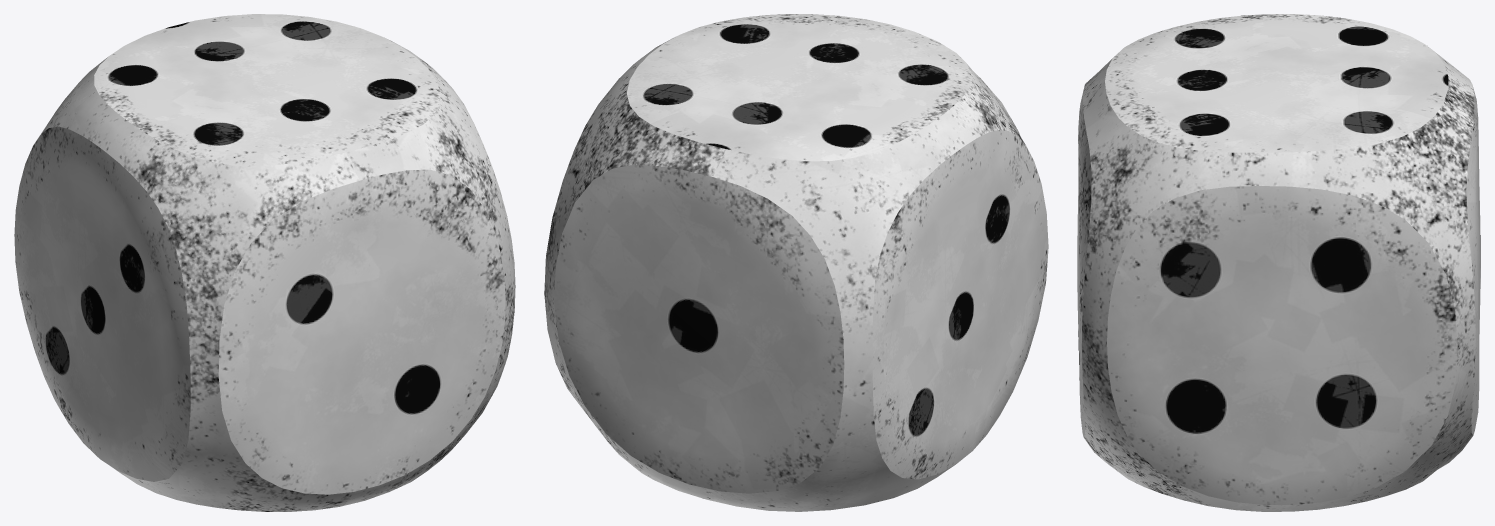
The model's file is dice.glb.
3 views of the same model, side by side, from view 1: azimuth 30°, elevation 25°; view 2: azimuth 150°, elevation 25°; view 3: azimuth 270°, elevation 25° (orthographic).
Visible parts, largest first — view 1: g (×4); view 2: g (×4); view 3: g (×5).
Boxes of the visible parts, x1,y1,x2,y2 form: g (×4): [14, 14, 515, 511]; g (×4): [544, 14, 1048, 511]; g (×5): [1077, 14, 1480, 511].
Bounding box in the file's own units: 0.0212 × 0.0219 × 0.0218.
Materials: 1 (1 with a texture image).
